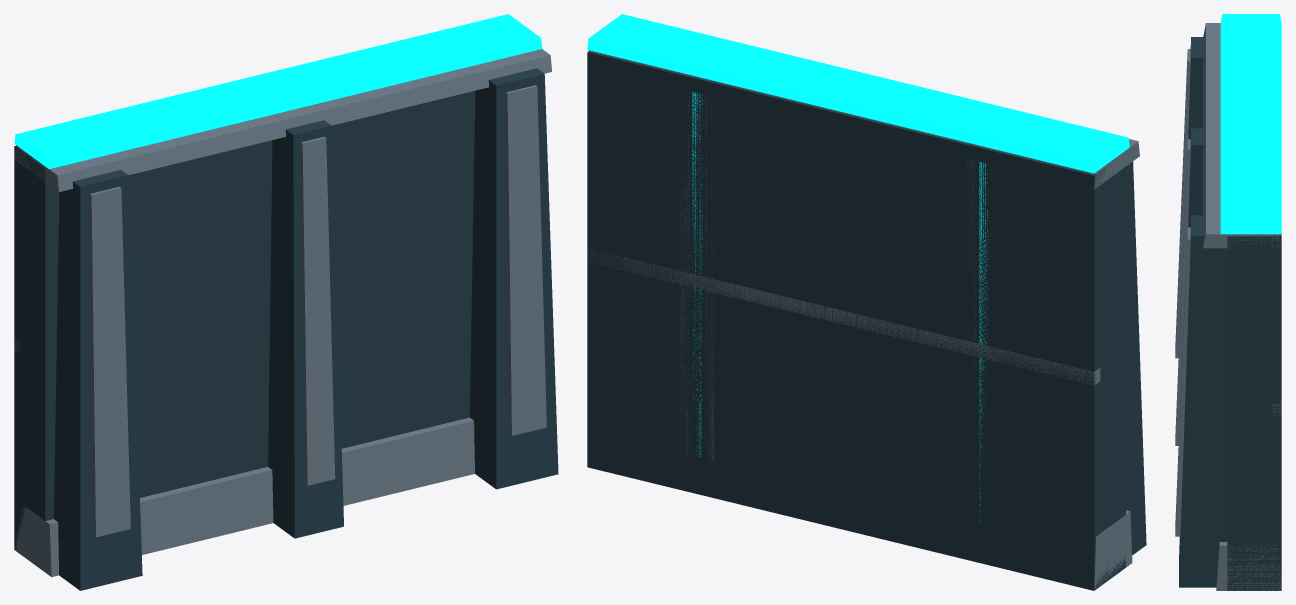
The model's file is wall_buttress.glb.
3 renders of one model, left to right at view 1: azimuth 30°, elevation 25°; view 2: azimuth 150°, elevation 25°; view 3: azimuth 270°, elevation 25°, orthographic. The views are drawn at different scales.
Visible parts, largest first — view 1: Wall_Buttress; view 2: Wall_Buttress; view 3: Wall_Buttress.
Boxes of the visible parts, x1,y1,x2,y2 form: Wall_Buttress: (14,14,558,590); Wall_Buttress: (587,14,1146,590); Wall_Buttress: (1175,14,1281,590).
Bounding box in the file's own units: 11.5 × 9.28 × 2.44.
